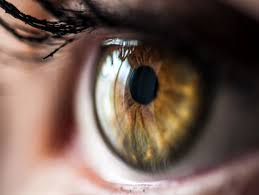pupil: (94, 48, 212, 170)
